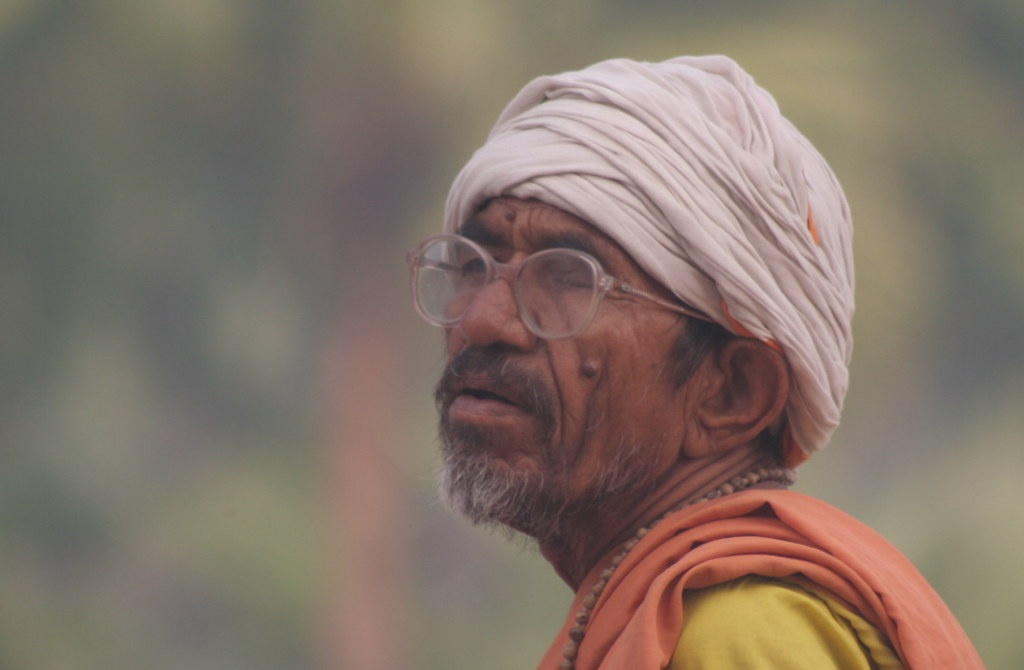without_mask: (394, 175, 776, 557)
